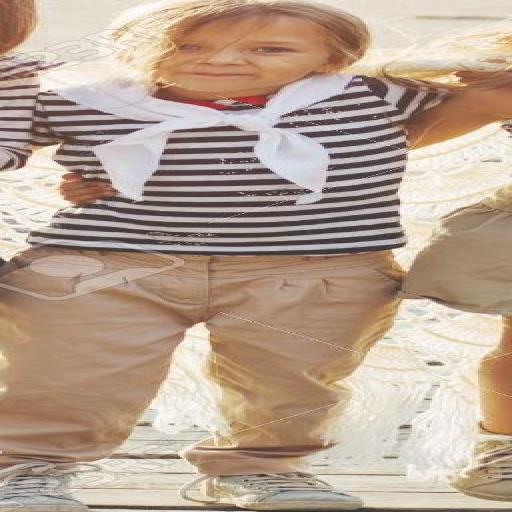person: (0, 0, 511, 511), (402, 186, 511, 500)
